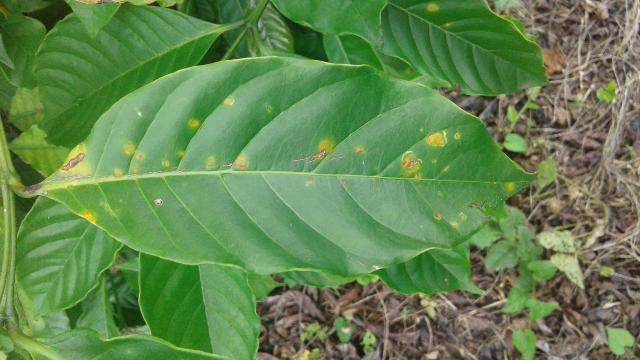rust_level_1: (32, 57, 539, 282)
